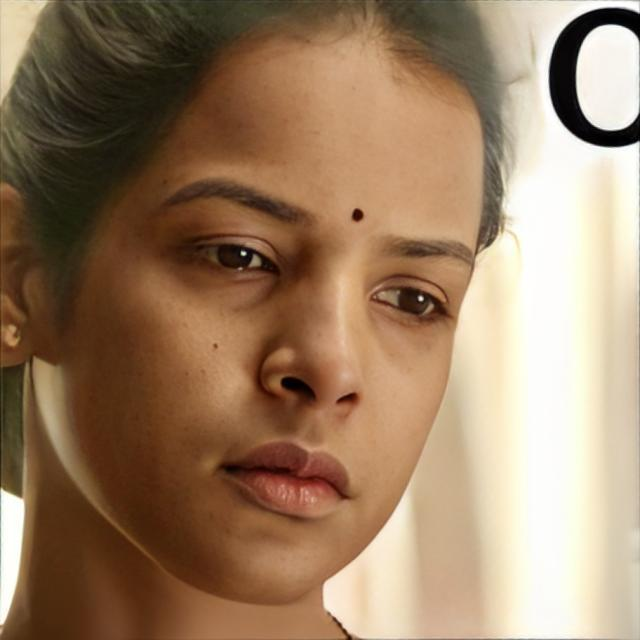sad: (31, 33, 485, 610)
